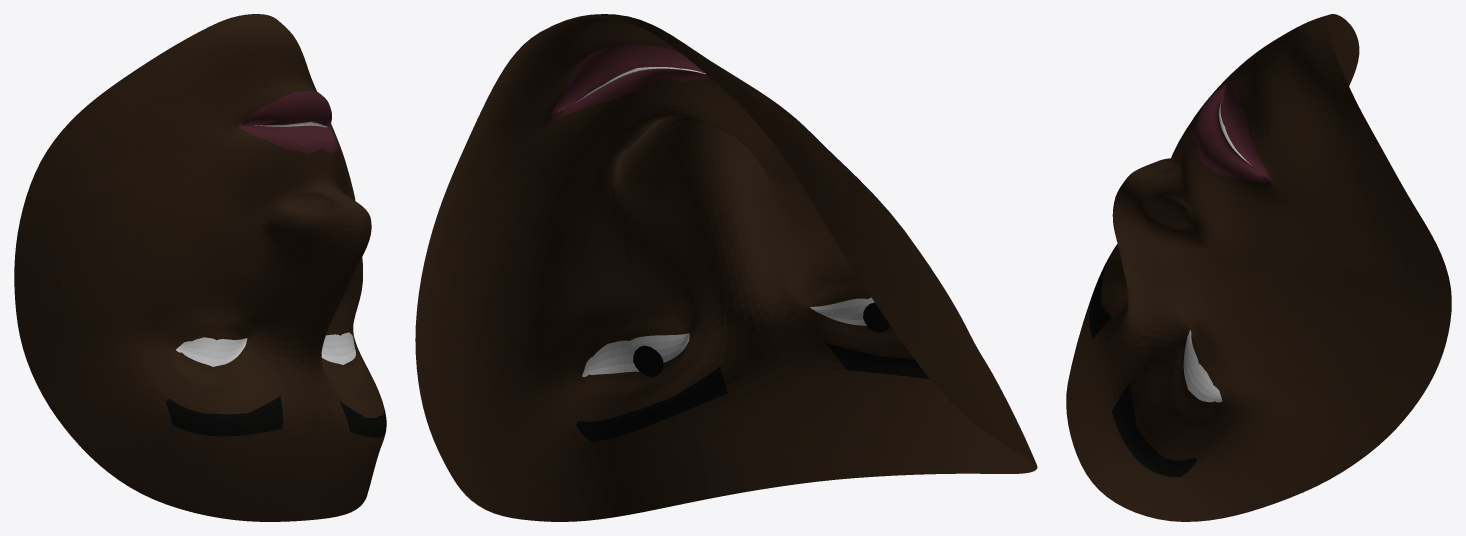
The model's file is IMG_6883.obj.
3 renders of one model, left to right at view 1: azimuth 30°, elevation 25°; view 2: azimuth 150°, elevation 25°; view 3: azimuth 270°, elevation 25°, orthographic. The views are drawn at different scales.
Parts seen in each view (by area): view 1: face_mesh_subdivided; view 2: face_mesh_subdivided; view 3: face_mesh_subdivided.
Part boxes in pixels (box(x1,y1,x2,y2)): face_mesh_subdivided: box(14, 14, 386, 521); face_mesh_subdivided: box(415, 14, 1037, 521); face_mesh_subdivided: box(1066, 14, 1451, 521).
Bounding box in the file's own units: 0.642 × 0.7598 × 0.5756.
